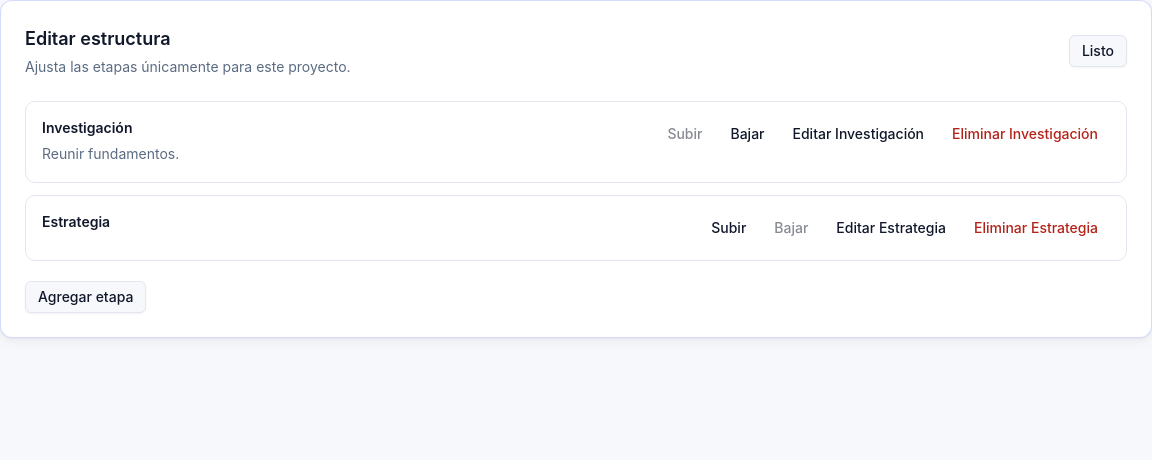
Test: ProjectStageEditor › cancels stage deletion from a named permanent confirmation
The width and height of the screenshot is (1152, 460).
Click the button "Eliminar Investigación".
click(1025, 134)  # box top-left (940, 118), bottom-right (1110, 150)
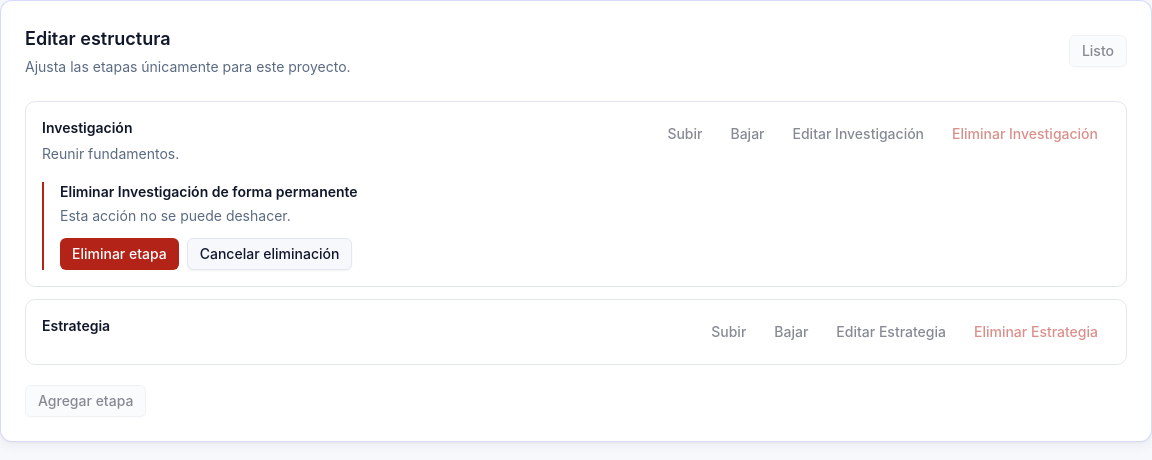
Check: the text "Eliminar Investigación de forma permanente" is shown, box top-left (60, 183), bottom-right (358, 200)
Click the button "Cancelar eliminación".
click(270, 254)  # box top-left (187, 238), bottom-right (352, 270)
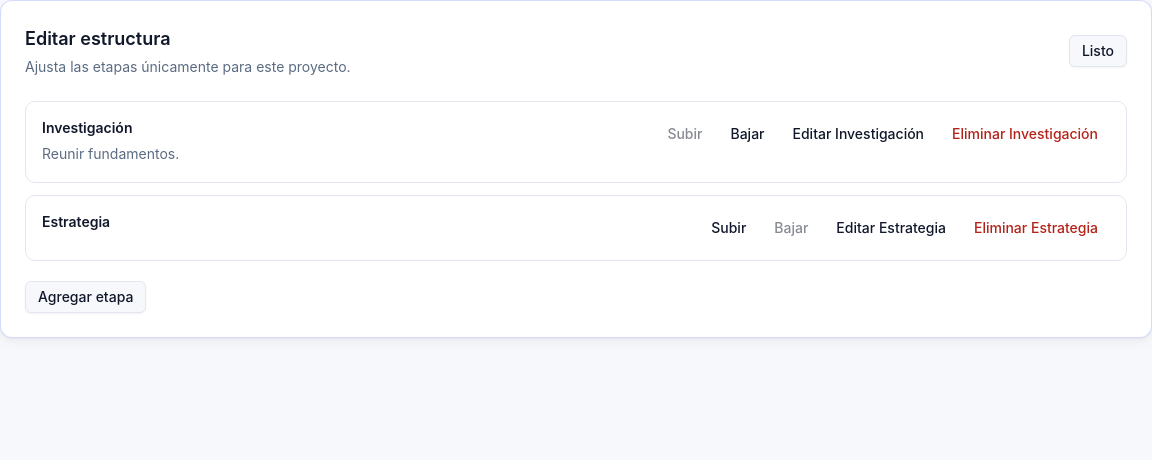
Check: the text "Eliminar Investigación de forma permanente" is gone
